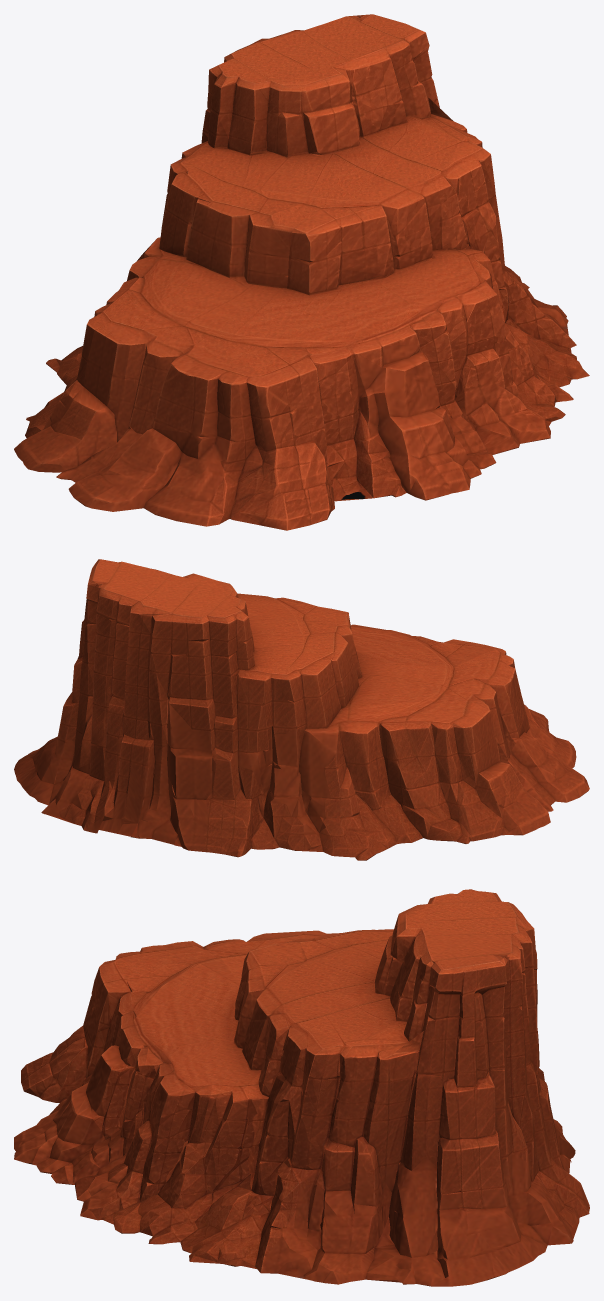
The model's file is desert_cliff_2.glb.
3 views of the same model, one above another, from view 1: azimuth 30°, elevation 25°; view 2: azimuth 150°, elevation 25°; view 3: azimuth 270°, elevation 25° (orthographic). The views are drawn at different scales.
Parts seen in each view (by area): view 1: output_unwrapped; view 2: output_unwrapped; view 3: output_unwrapped.
Part boxes in pixels (box(x1,y1,x2,y2)): output_unwrapped: box(14, 14, 589, 530); output_unwrapped: box(14, 559, 589, 860); output_unwrapped: box(14, 889, 589, 1286).
Bounding box in the file's own units: 1.9 × 0.854 × 1.65.
Materials: 1 (1 with a texture image).
